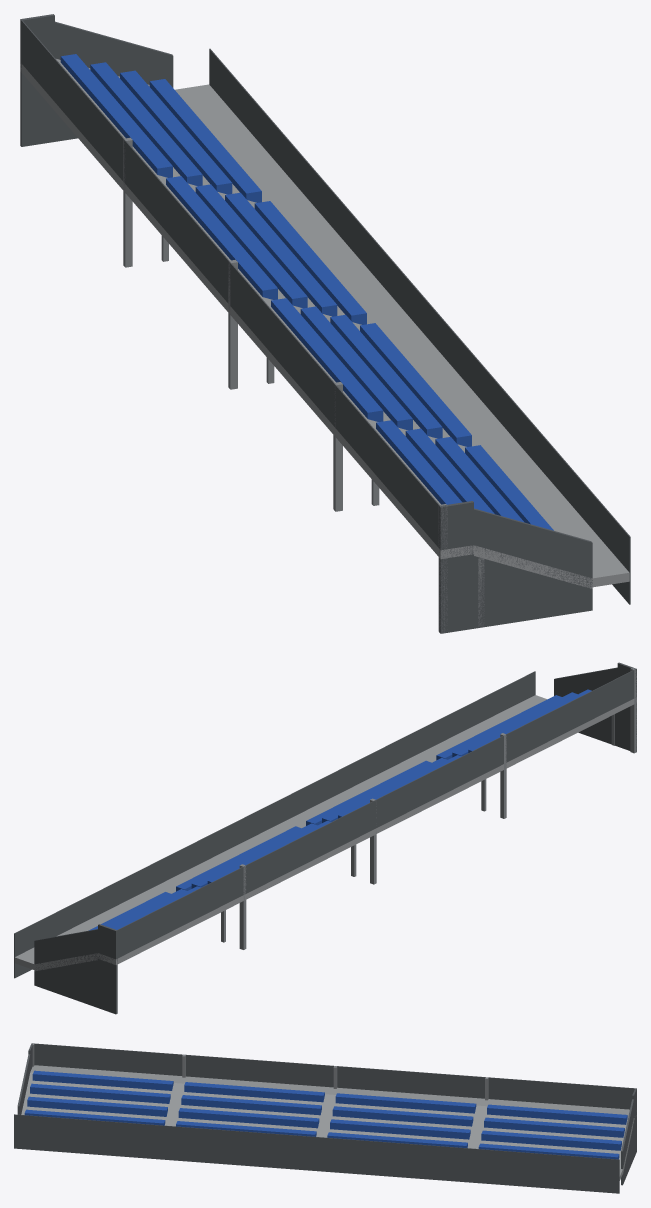
The model's file is mza_stand_ascari_due.glb.
3 views of the same model, one above another, from view 1: azimuth 30°, elevation 25°; view 2: azimuth 150°, elevation 25°; view 3: azimuth 270°, elevation 25° (orthographic). The views are drawn at different scales.
Parts seen in each view (by area): view 1: monza-ascari-due; view 2: monza-ascari-due; view 3: monza-ascari-due.
Boxes of the visible parts, left/top/right/bottom form: monza-ascari-due: left=20, top=14, right=630, bottom=633; monza-ascari-due: left=14, top=662, right=636, bottom=1014; monza-ascari-due: left=14, top=1043, right=636, bottom=1193.
Bounding box in the file's own units: 10.47 × 3.54 × 31.61.
